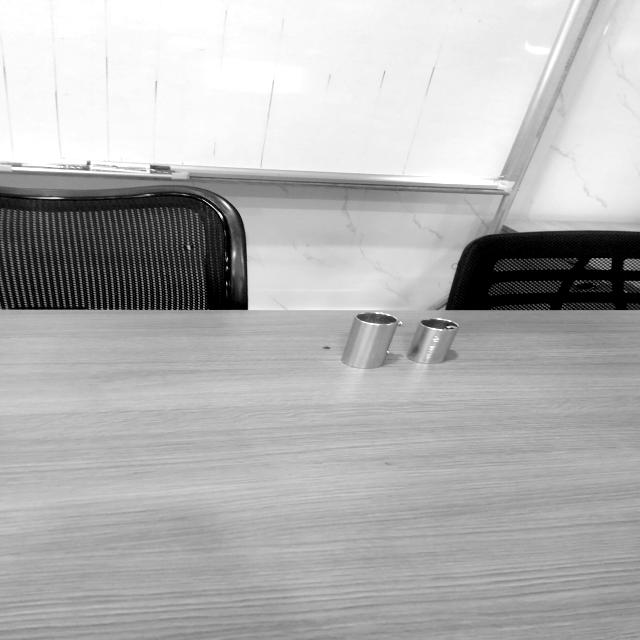Co_Lon: (338, 304, 403, 378)
Co_Nho: (404, 310, 460, 373)
